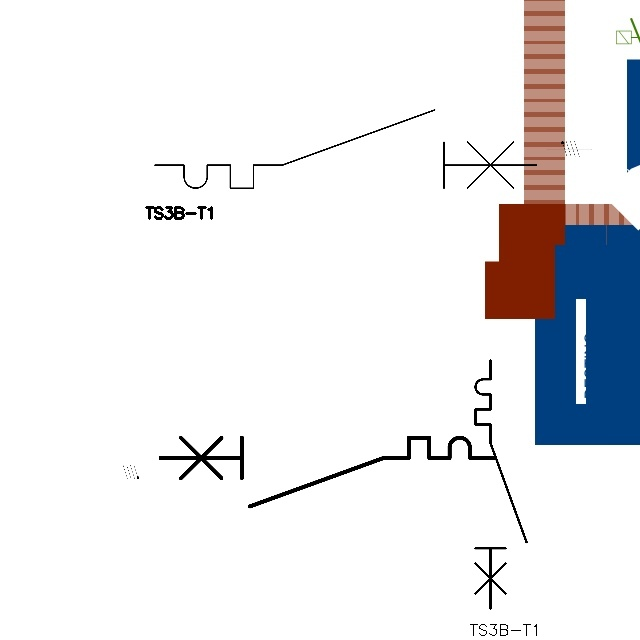interruptor_termomagnetico: (145, 100, 546, 198), (151, 429, 503, 515), (469, 354, 533, 615)
